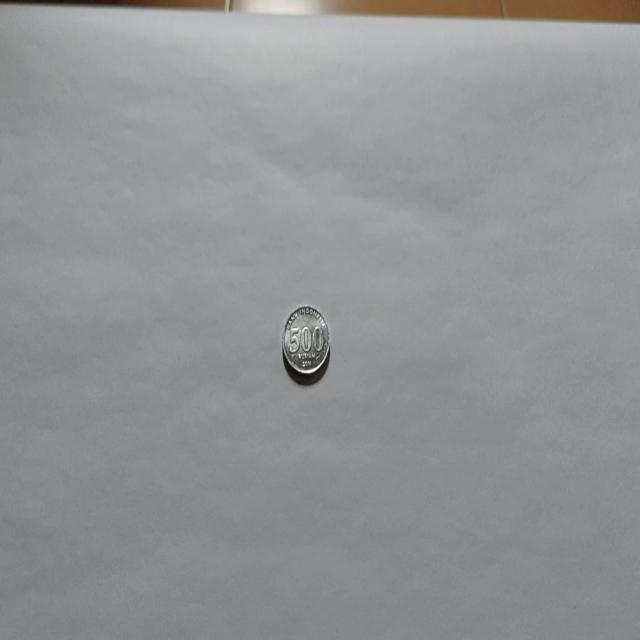lima ratus rupiah: (281, 302, 331, 383)
